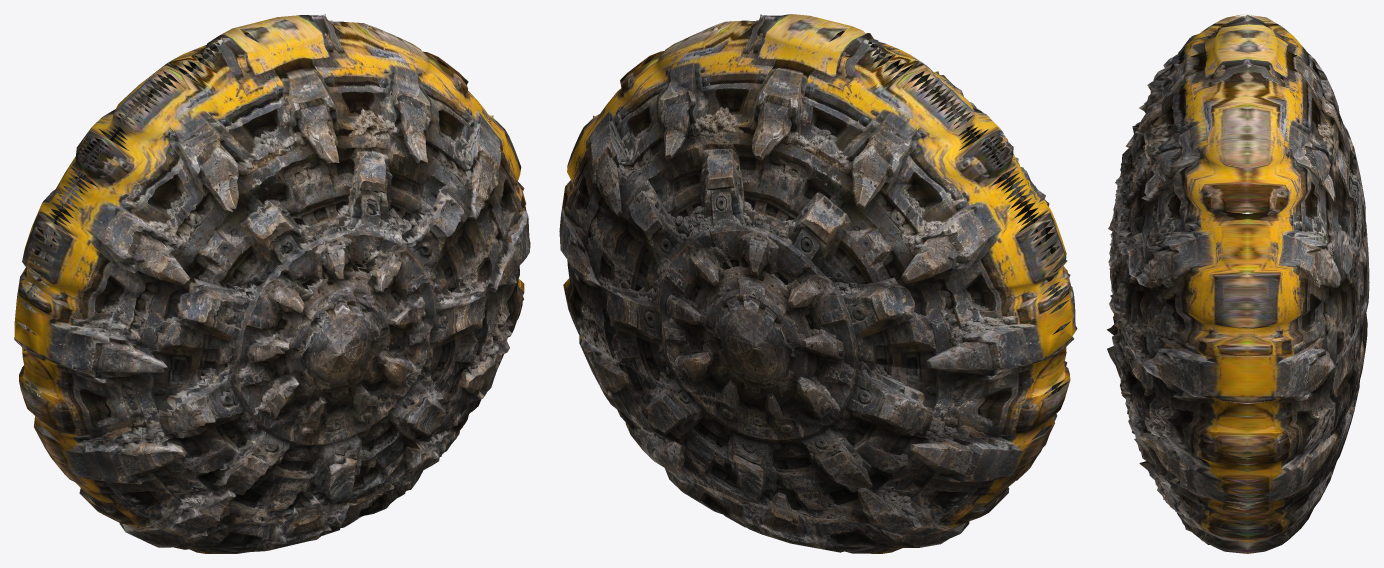
Rendered from drill-head.glb.
3 renders of one model, left to right at view 1: azimuth 30°, elevation 25°; view 2: azimuth 150°, elevation 25°; view 3: azimuth 270°, elevation 25°, orthographic. The views are drawn at different scales.
Visible parts, largest first — view 1: drill-head; view 2: drill-head; view 3: drill-head.
Boxes of the visible parts, x1=… form: drill-head: x1=14, y1=14, x2=530, y2=553; drill-head: x1=559, y1=14, x2=1077, y2=553; drill-head: x1=1107, y1=14, x2=1369, y2=553.
Bounding box in the file's own units: 5.1 × 5.07 × 2.49.
Materials: 1 (1 with a texture image).
